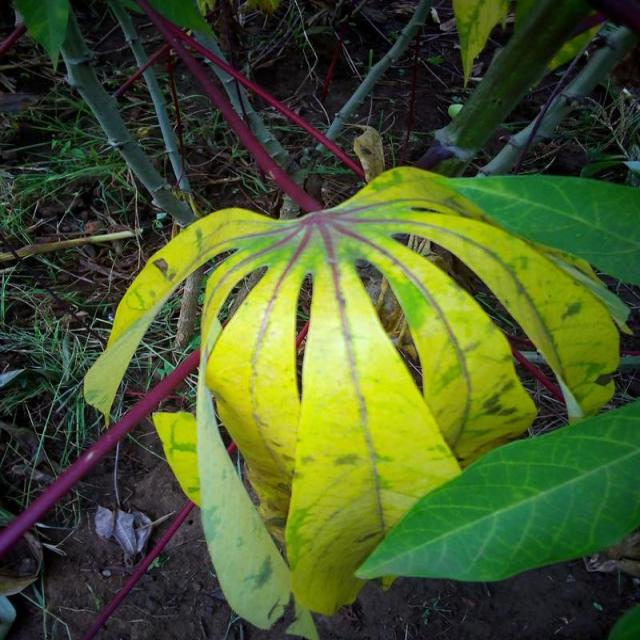cassava leaf: (83, 163, 636, 633), (353, 394, 639, 586)
